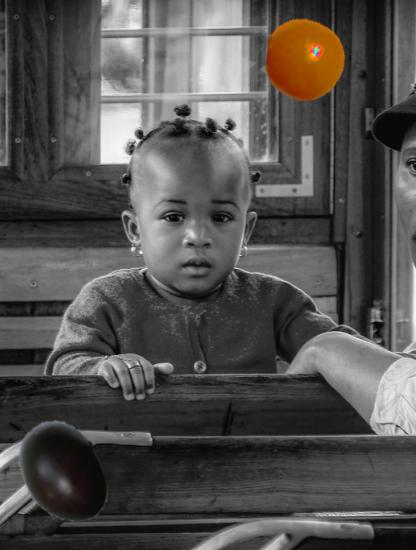Eggplant: (8, 416, 120, 528)
Physalis: (263, 18, 348, 103)
